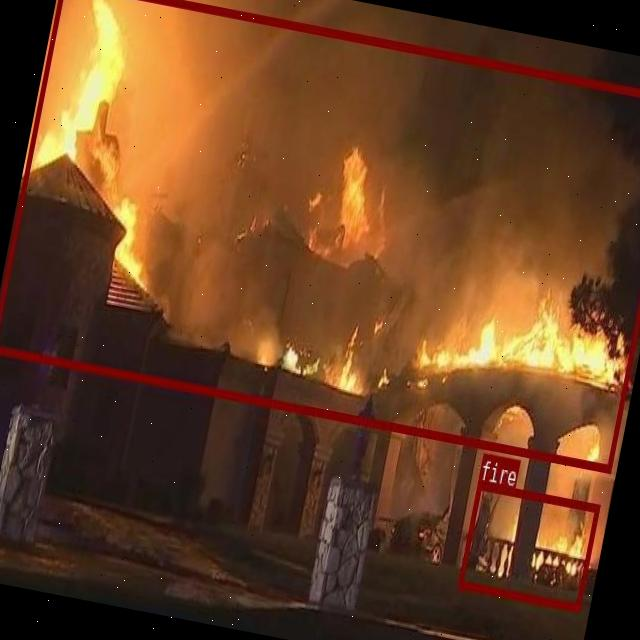fire: (0, 0, 640, 470), (458, 480, 600, 610)
